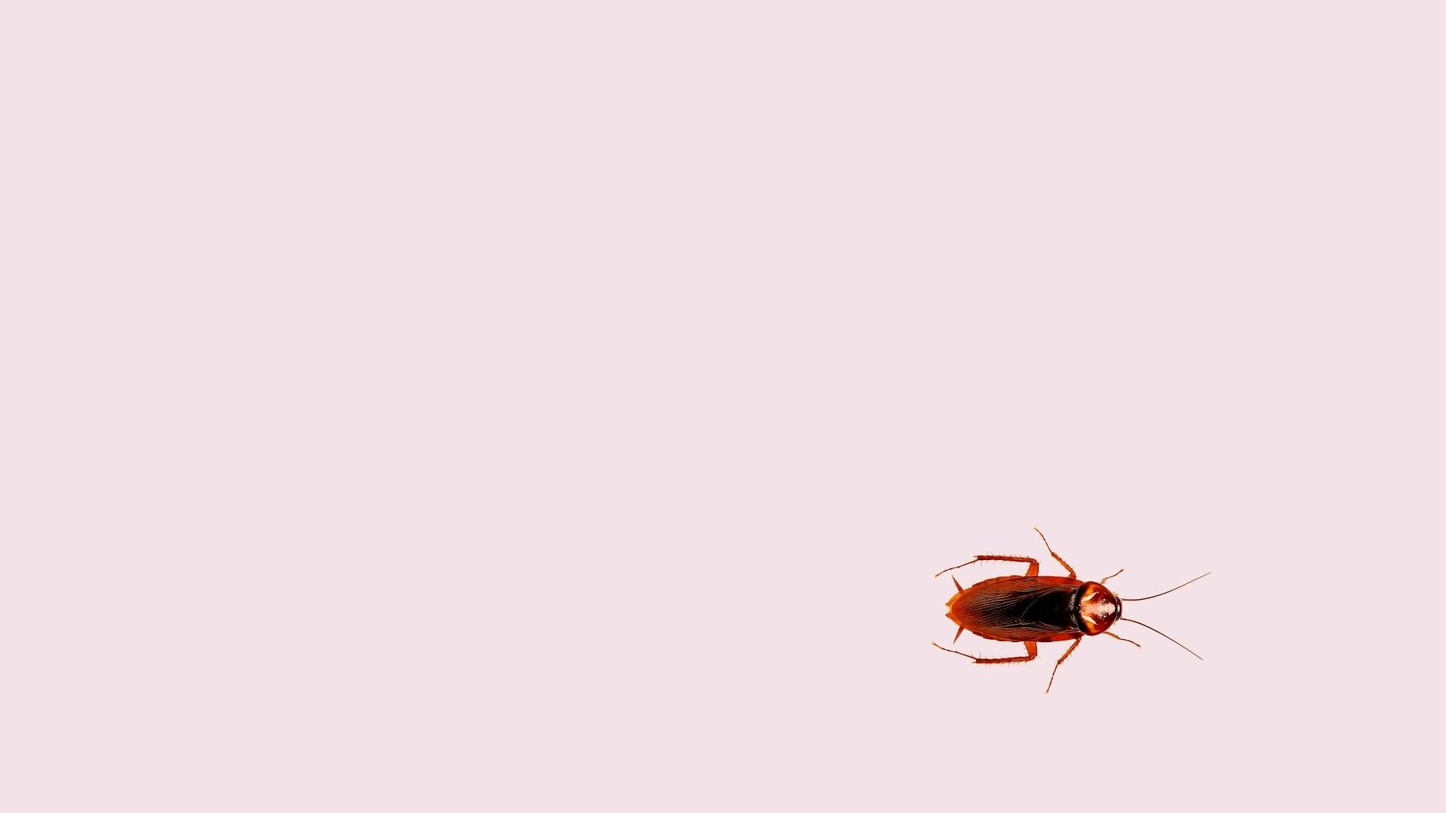cockroach: (934, 544, 1194, 679)
